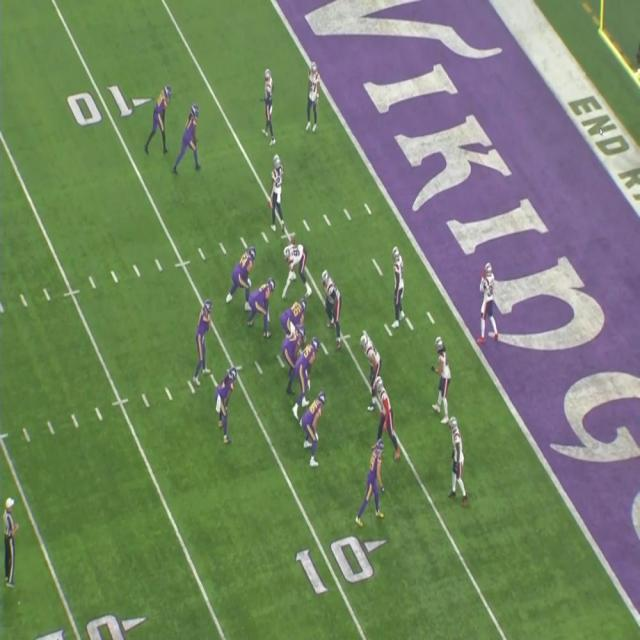center: (280, 301, 306, 333)
db: (477, 263, 498, 344), (451, 416, 467, 500), (306, 63, 322, 128), (272, 154, 286, 228), (261, 68, 275, 140)
lb: (433, 334, 450, 418), (376, 376, 396, 444), (393, 246, 407, 328)
qb: (198, 298, 214, 378)
skill: (304, 390, 326, 466), (366, 438, 386, 519), (149, 86, 172, 156), (181, 103, 203, 171), (219, 368, 237, 438)
